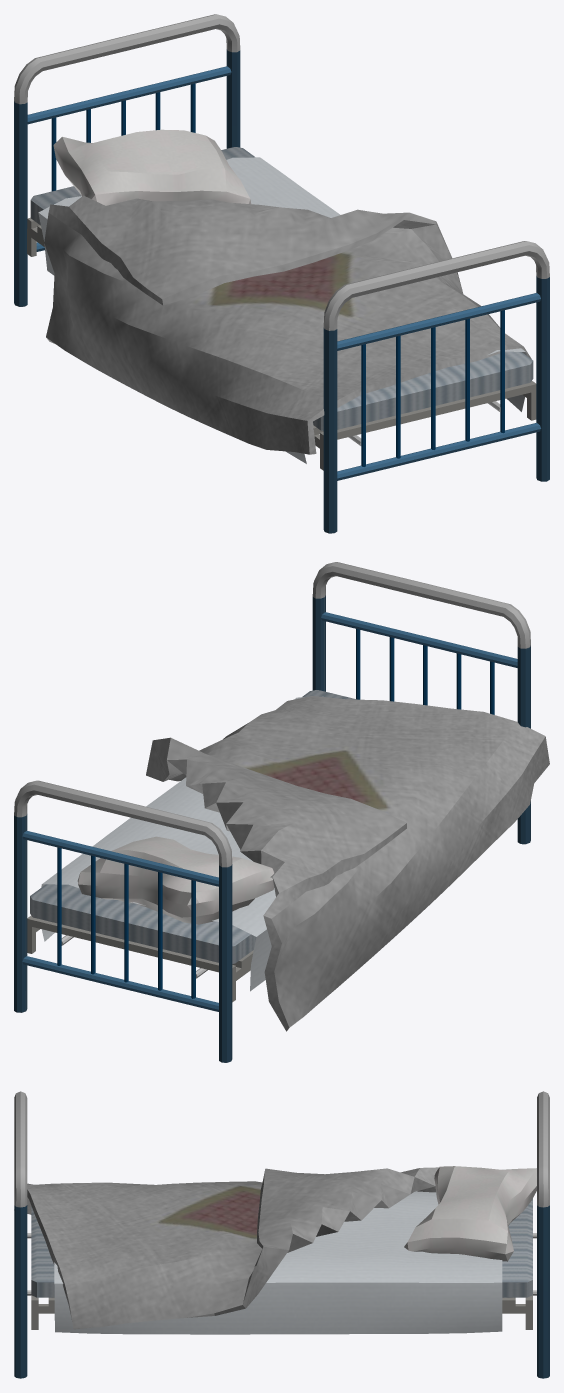
Rendered from krovat.glb.
3 renders of one model, top to bottom at view 1: azimuth 30°, elevation 25°; view 2: azimuth 150°, elevation 25°; view 3: azimuth 270°, elevation 25°, orthographic. The views are drawn at different scales.
Visible parts, largest first — view 1: Bed.001; view 2: Bed.001; view 3: Bed.001.
Boxes of the visible parts, x1,y1,x2,y2 form: Bed.001: (14, 14, 549, 533); Bed.001: (14, 562, 549, 1062); Bed.001: (14, 1091, 549, 1378).
Bounding box in the file's own units: 1.08 × 0.8444 × 2.01.
Materials: 1 (1 with a texture image).
